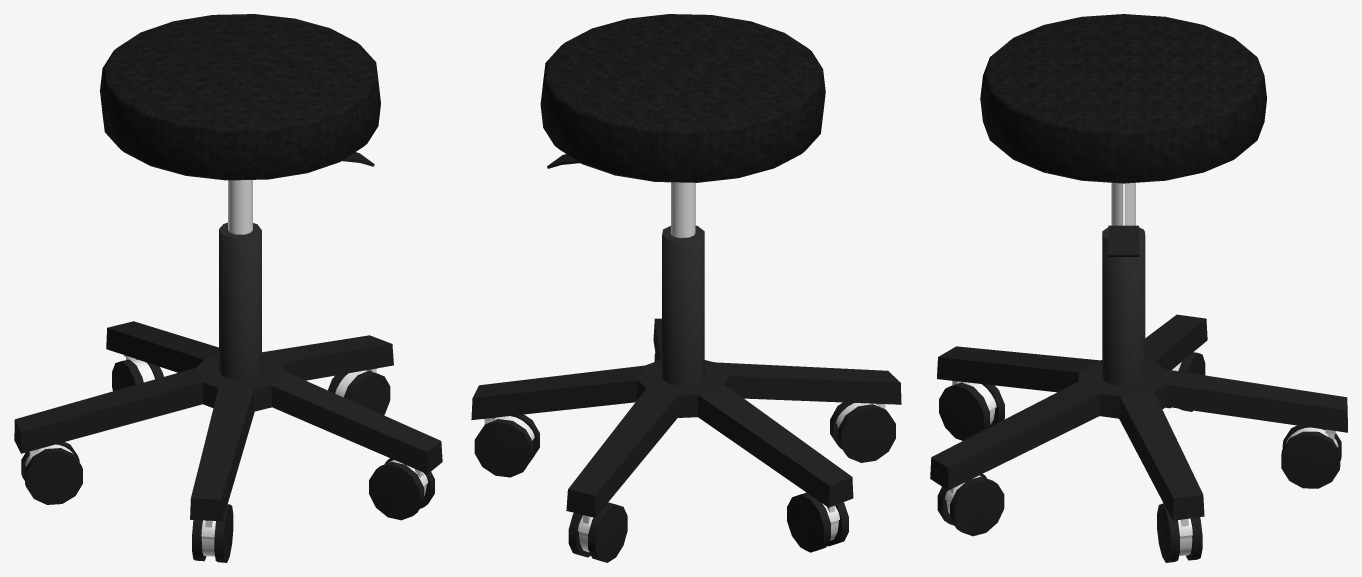
File: Round Stool.fbx
3 views of the same model, side by side, from view 1: azimuth 30°, elevation 25°; view 2: azimuth 150°, elevation 25°; view 3: azimuth 270°, elevation 25° (orthographic).
Parts seen in each view (by area): view 1: RoundStool; view 2: RoundStool; view 3: RoundStool.
Part boxes in pixels (x1=…): RoundStool: x1=14, y1=14, x2=442, y2=562; RoundStool: x1=471, y1=14, x2=901, y2=562; RoundStool: x1=930, y1=14, x2=1347, y2=562.
Bounding box in the file's own units: 57.45 × 61.1 × 55.17.
